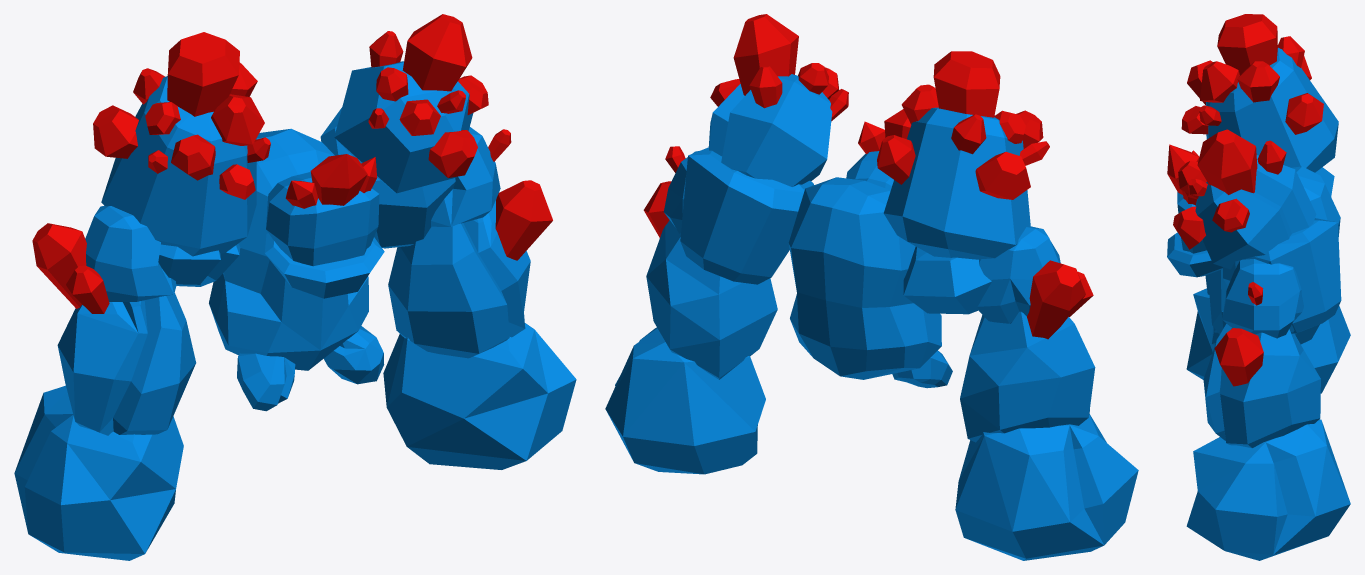
The model's file is ENEMY_Shooter.fbx.
3 views of the same model, side by side, from view 1: azimuth 30°, elevation 25°; view 2: azimuth 150°, elevation 25°; view 3: azimuth 270°, elevation 25° (orthographic). The views are drawn at different scales.
Parts seen in each view (by area): view 1: Gemstones_Arms_4, Arms_L, Arms_R, Gemstones_Arms, Gemstones_Arms_2, Gemstones_Arms_3, Body, Head, Arms_R_2, Shoulder_L_2, Gemstones_Arms_5, Jaw (+3 smaller); view 2: Gemstones_Arms_4, Body, Arms_R, Gemstones_Arms, Arms_L, Gemstones_Arms_2, Gemstones_Arms_3, Shoulder_L_2, Arms_R_2, Shoulder_R_2, Head, Gemstones_Arms_5 (+1 smaller); view 3: Arms_L, Gemstones_Arms_4, Gemstones_Arms_2, Gemstones_Arms_3, Shoulder_L_2, Gemstones_Arms_5, Arms_R, Body, Jaw, Head, Shoulder_R_2.
Part boxes in pixels (box(x1,y1,x2,y2)): Gemstones_Arms_4: box(93, 32, 270, 256); Arms_L: box(383, 323, 576, 469); Arms_R: box(14, 385, 183, 560); Gemstones_Arms: box(32, 223, 196, 435); Gemstones_Arms_2: box(334, 14, 488, 193); Gemstones_Arms_3: box(388, 180, 552, 358); Body: box(209, 128, 368, 370); Head: box(266, 154, 379, 266); Arms_R_2: box(85, 205, 176, 301); Shoulder_L_2: box(320, 107, 455, 248); Gemstones_Arms_5: box(431, 127, 511, 226); Jaw: box(264, 233, 384, 298); Gemstones_Arms_4: box(877, 51, 1049, 259); Body: box(788, 177, 941, 379); Arms_R: box(955, 414, 1138, 560); Gemstones_Arms: box(960, 260, 1095, 442); Arms_L: box(605, 327, 765, 474); Gemstones_Arms_2: box(708, 14, 848, 186); Gemstones_Arms_3: box(643, 181, 777, 379); Shoulder_L_2: box(680, 147, 813, 284); Arms_R_2: box(977, 226, 1060, 323); Shoulder_R_2: box(903, 246, 991, 314); Head: box(846, 109, 911, 190); Gemstones_Arms_5: box(663, 146, 698, 233); Arms_L: box(1186, 419, 1350, 560); Gemstones_Arms_4: box(1181, 14, 1338, 172); Gemstones_Arms_2: box(1173, 129, 1316, 269); Gemstones_Arms_3: box(1203, 323, 1320, 448); Shoulder_L_2: box(1223, 218, 1341, 333); Gemstones_Arms_5: box(1222, 259, 1303, 338); Arms_R: box(1186, 288, 1350, 393); Body: box(1208, 166, 1340, 344); Jaw: box(1167, 232, 1223, 277); Head: box(1167, 144, 1206, 253); Shoulder_R_2: box(1315, 167, 1334, 196).
Size of the model in its own units: 83.56 by 206 by 228.
